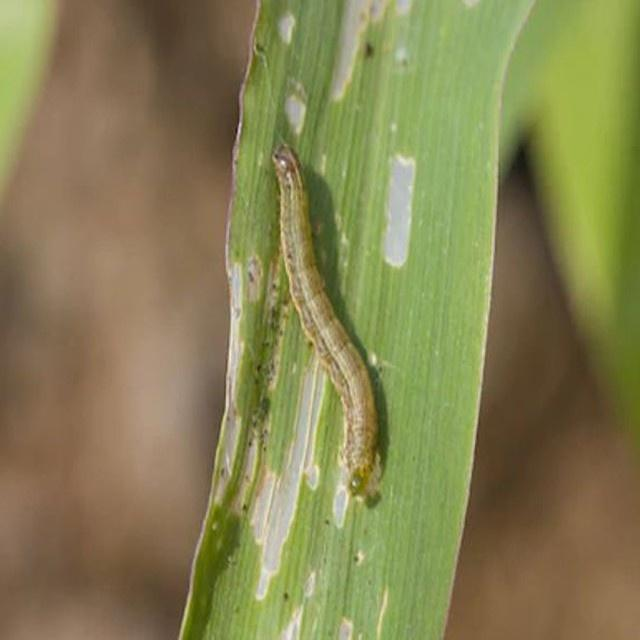Plaga: (268, 135, 388, 512)
